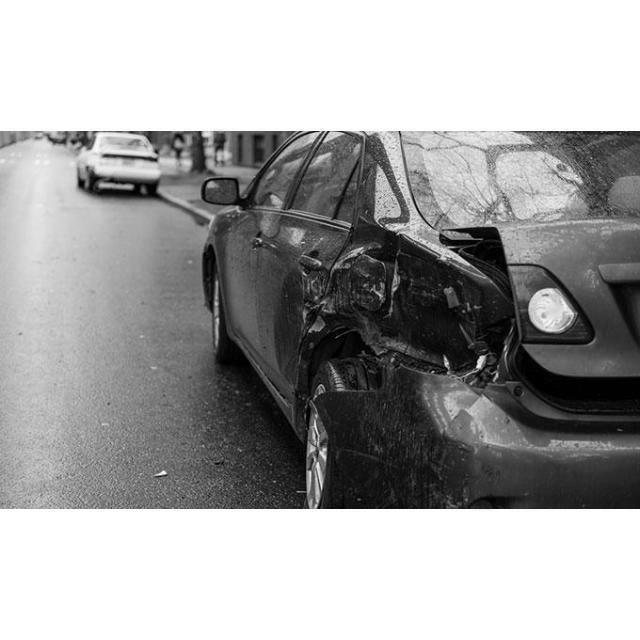boot-dent: (470, 231, 640, 453)
doorouter-dent: (270, 249, 320, 373)
quaterpanel-dent: (338, 137, 470, 468)
rear-bumper-dent: (336, 427, 640, 508)
